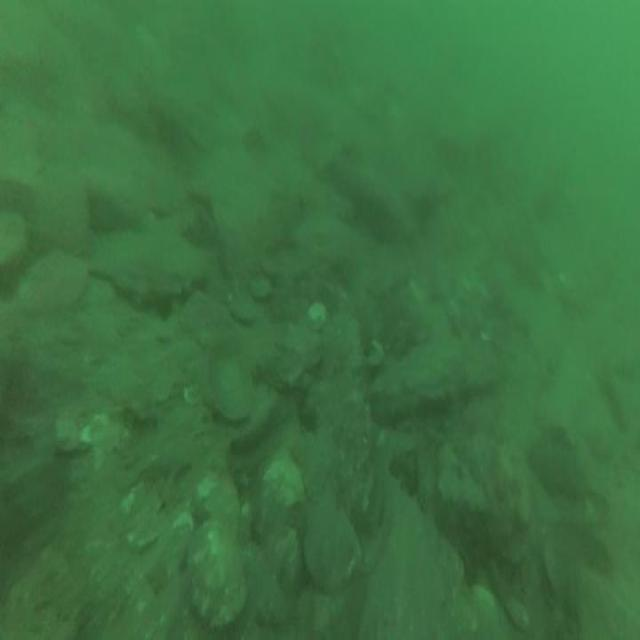scallop: (183, 518, 245, 632), (303, 504, 361, 594)
